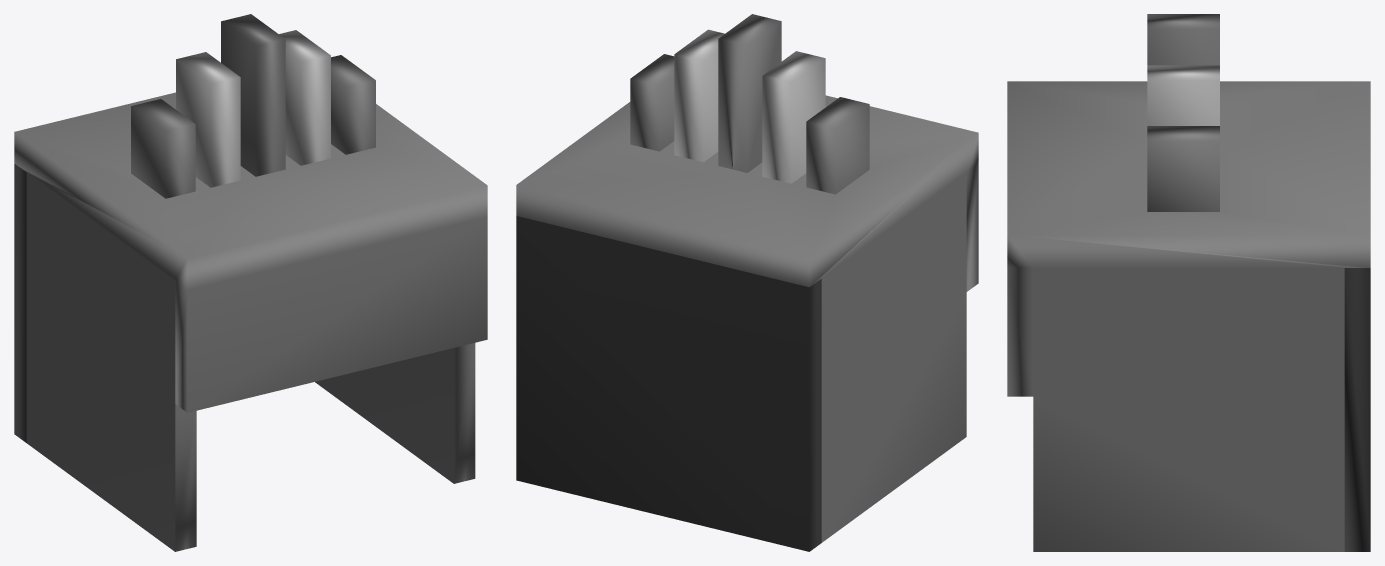
3 renders of one model, left to right at view 1: azimuth 30°, elevation 25°; view 2: azimuth 150°, elevation 25°; view 3: azimuth 270°, elevation 25°, orthographic. The views are drawn at different scales.
Visible parts, largest first — view 1: mesh; view 2: mesh; view 3: mesh.
Part boxes in pixels (x1=…): mesh: x1=14, y1=14, x2=487, y2=551; mesh: x1=516, y1=14, x2=978, y2=551; mesh: x1=1007, y1=14, x2=1370, y2=551.
Bounding box in the file's own units: 1.4 × 1.93 × 1.4.
1 material, 1 textured.
